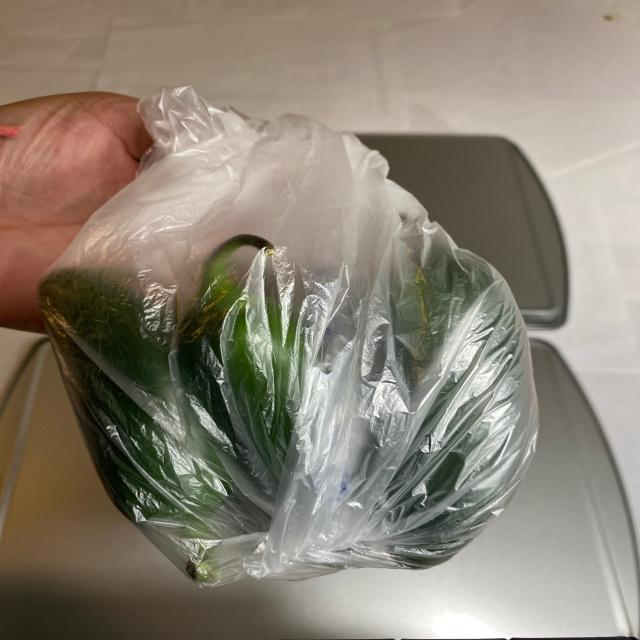chilli: (26, 214, 538, 584)
